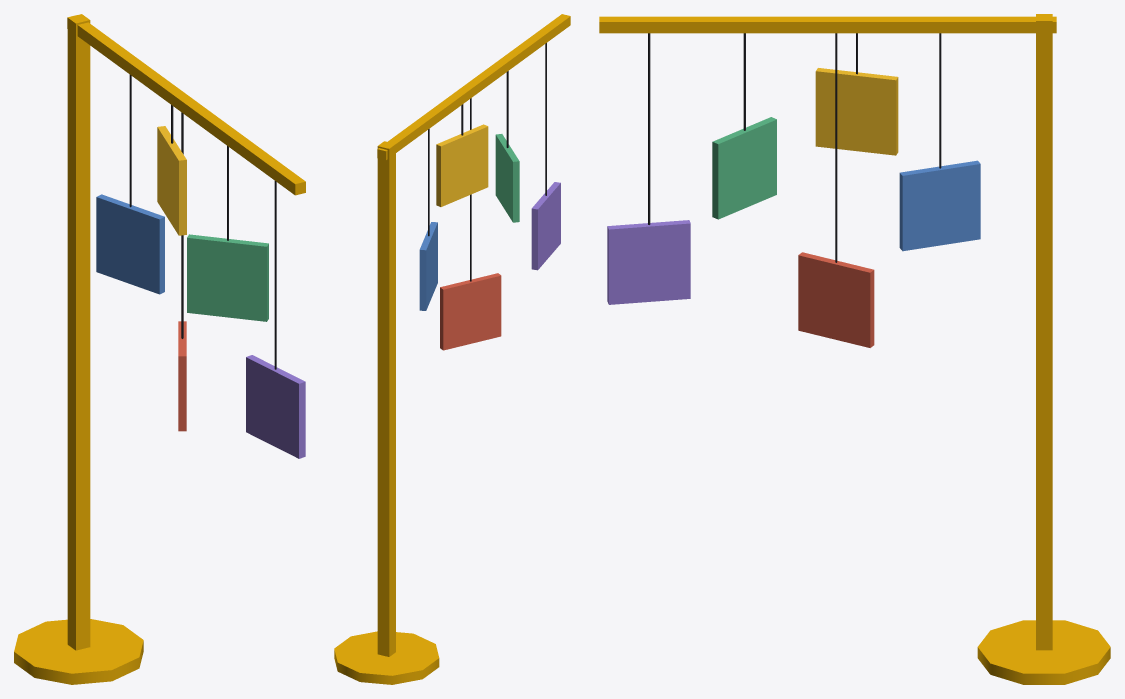
The model's file is station_transport_ausstattung_2_3.glb.
3 renders of one model, left to right at view 1: azimuth 30°, elevation 25°; view 2: azimuth 150°, elevation 25°; view 3: azimuth 270°, elevation 25°, orthographic. The views are drawn at different scales.
Parts seen in each view (by area): view 1: station_transport_ausstattung_2_3; view 2: station_transport_ausstattung_2_3; view 3: station_transport_ausstattung_2_3.
Boxes of the visible parts, x1,y1,x2,y2 form: station_transport_ausstattung_2_3: (14, 14, 305, 684); station_transport_ausstattung_2_3: (334, 14, 570, 684); station_transport_ausstattung_2_3: (599, 14, 1110, 684).
Size of the model in its own units: 0.3043 by 1.7 by 1.23.
